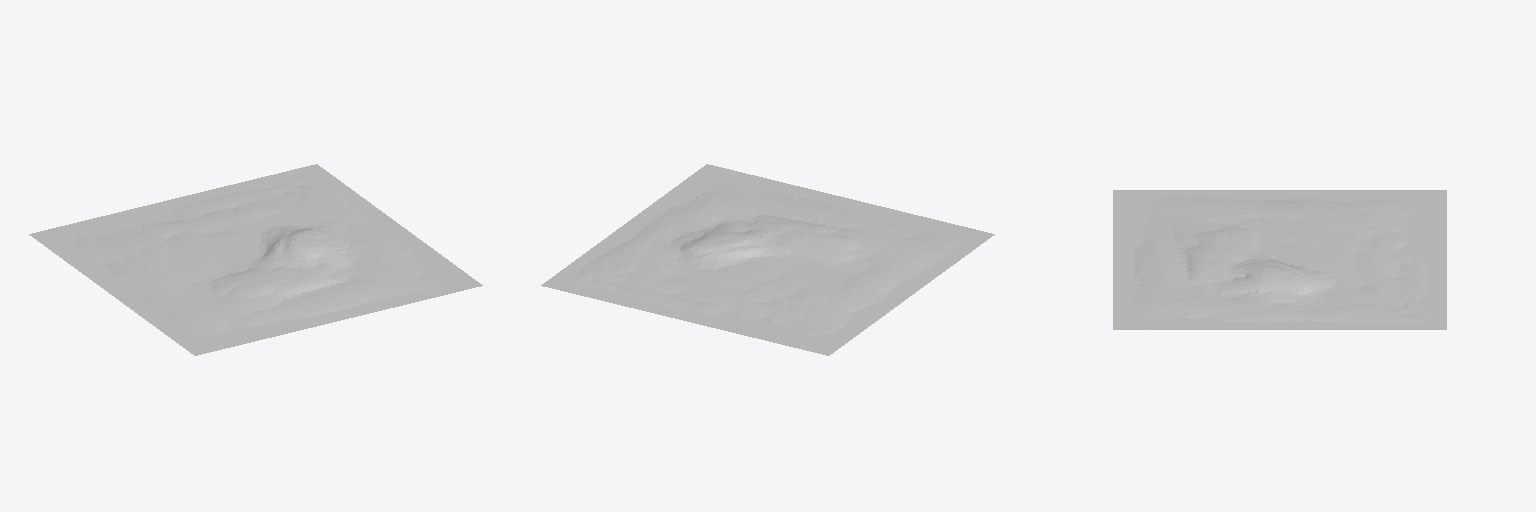
Rendered from PlainTile0020.obj.
3 views of the same model, side by side, from view 1: azimuth 30°, elevation 25°; view 2: azimuth 150°, elevation 25°; view 3: azimuth 270°, elevation 25° (orthographic).
Visible parts, largest first — view 1: Tile; view 2: Tile; view 3: Tile.
Boxes of the visible parts, <box> form: Tile: <box>29,164,482,355</box>; Tile: <box>541,164,994,355</box>; Tile: <box>1113,190,1446,329</box>.
Size of the model in its own units: 250 by 6.72 by 250.